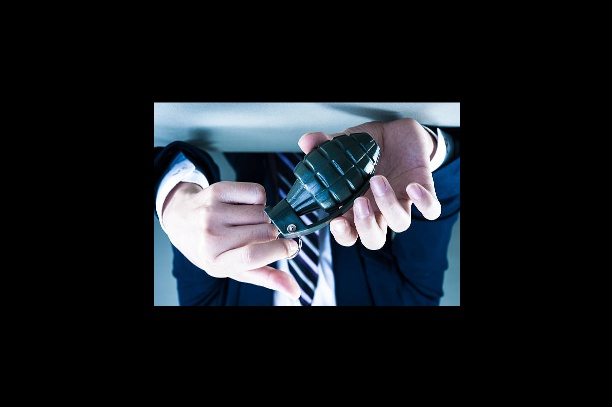e1: (257, 128, 388, 256)
